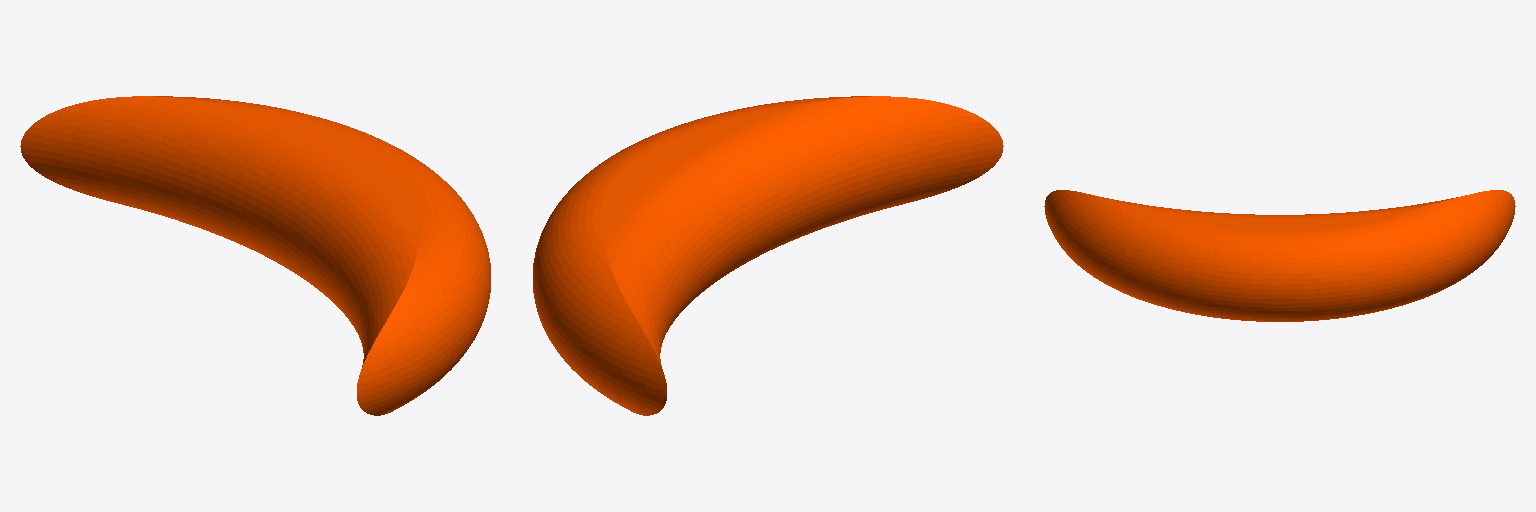
The robot description file, URDF, robot "objects":
<?xml  version="1.0"?>
<robot name ="objects"> 
    <!-- Author: [author]; e-mail:[email redacted]. The urdf file was develped in tongji university.-->

    <!--create  color params-->
    <material name ="LightGrey">
        <color rgba="0.7 0.7 0.7 1.0"/>
    </material>

    <material name ="White">
        <color rgba="1 1 1 1.0"/>
    </material>

    <material name ="Green">
        <color rgba="0.1 0. 1.0 1.0"/>
    </material>

    <material name ="Yellow">
        <color rgba="1. 1. 0. 1.0"/>
    </material>

    <material name ="Orange">
        <color rgba="1. 0.38 0. 1.0"/>
    </material>

    <material name ="Blue">
        <color rgba="0.69 0.87 0.9 1.0"/>
    </material>

    <mass name ="table_mass">
        <mass value="1.0"/>
    </mass>

    <mass name ="cylander_mass">
        <mass value="2.0"/>
    </mass>



    <link  name ="World"/>

    <joint name="cylinder1_to_world" type="floating">
        <parent link="World"/>
        <child link="cylinder1"/>
        <origin xyz="0. 0. 0." rpy="0.0 0.0 0.0"/>
    </joint>

    <link name = "cylinder1">
        <contact>
            <lateral_friction value="0.05"/>
            <rolling_friction value="0.0"/>
            <contact_erp value="1.0"/>
        </contact>
        <visual>
            <origin  xyz="0.0 0.0 0.0" rpy="0.0 0.0 0.0"/>
            <geometry>
                <mesh filename = "meshes/moon.dae"/>
            </geometry >
            <material name ="Orange"/>
        </visual>
        <collision>
            <origin xyz="0.0 0.0 0.0" rpy="0.0 0.0 0.0"/>
            <geometry>
                <mesh filename ="meshes/moon.dae"/>
            </geometry>
        </collision>
        <inertial>
            <mass value = "0.5"/>
            <inertia ixx="1" ixy="0.0" ixz="0.0" iyy="1" iyz="0.0" izz="1"/>
        </inertial>
    </link>
</robot>

--- Render facts (derived) ---
Views: 3 orthographic renders of the robot side by side, from view 1: azimuth 30°, elevation 25°; view 2: azimuth 150°, elevation 25°; view 3: azimuth 270°, elevation 25°.
Robot: objects — 2 links, 1 joints (1 floating); root link World; default pose: all joints at 0.
Visible links, largest first — view 1: cylinder1; view 2: cylinder1; view 3: cylinder1.
Link boxes in pixels (<box>): cylinder1: <box>20,96,490,415</box>; cylinder1: <box>533,96,1003,415</box>; cylinder1: <box>1044,190,1515,321</box>.
Size in the robot's own frame: 0.0439 by 0.0993 by 0.02 metres.
Meshes: 1 distinct files referenced, 1 mesh visuals loaded (1 Collada DAE).